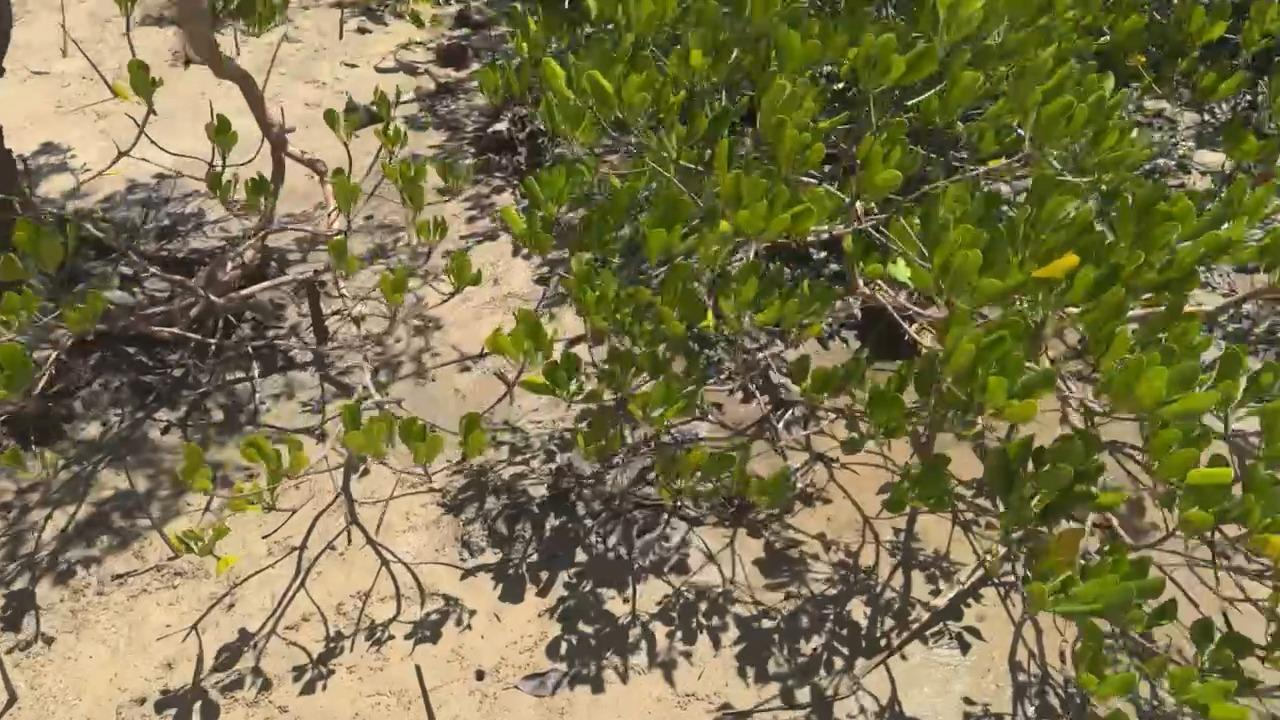Tree: (121, 463, 185, 557), (0, 654, 18, 703), (60, 0, 69, 61)
